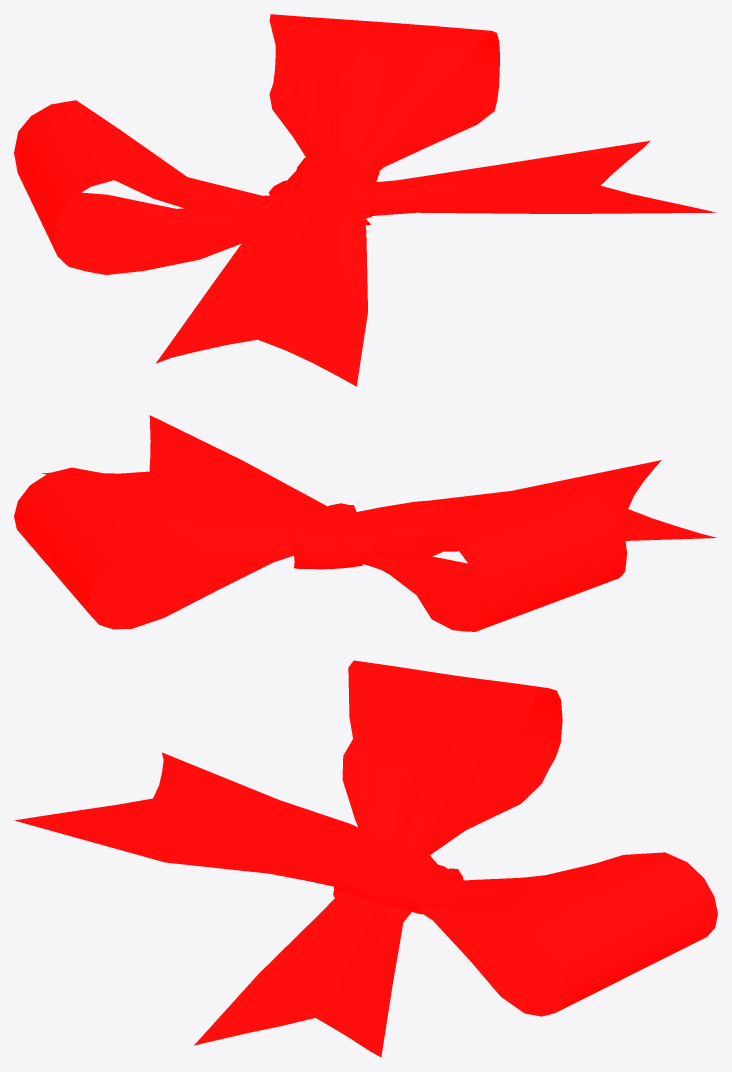
The model's file is ribbon.FBX.
The picture shows the model from 3 angles, top to bottom: view 1: azimuth 30°, elevation 25°; view 2: azimuth 150°, elevation 25°; view 3: azimuth 270°, elevation 25°; orthographic projection. The views are drawn at different scales.
Visible parts, largest first — view 1: gift_cap1; view 2: gift_cap1; view 3: gift_cap1.
Part boxes in pixels (left/top/right/bottom): gift_cap1: left=14, top=14, right=716, bottom=386; gift_cap1: left=14, top=415, right=716, bottom=631; gift_cap1: left=14, top=660, right=717, bottom=1056.
Size of the model in its own units: 3.59 by 0.6198 by 3.5.
